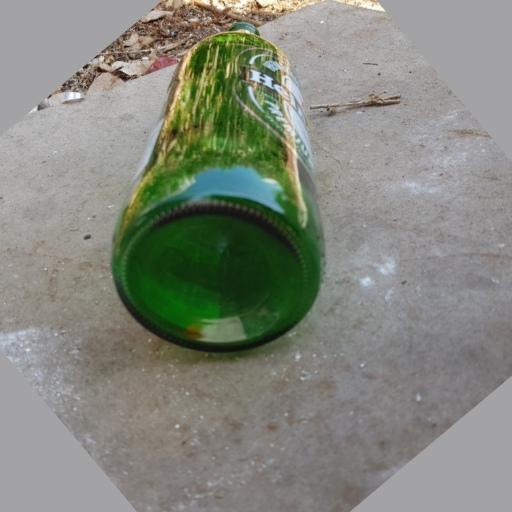Glass_1: (113, 20, 325, 356)
